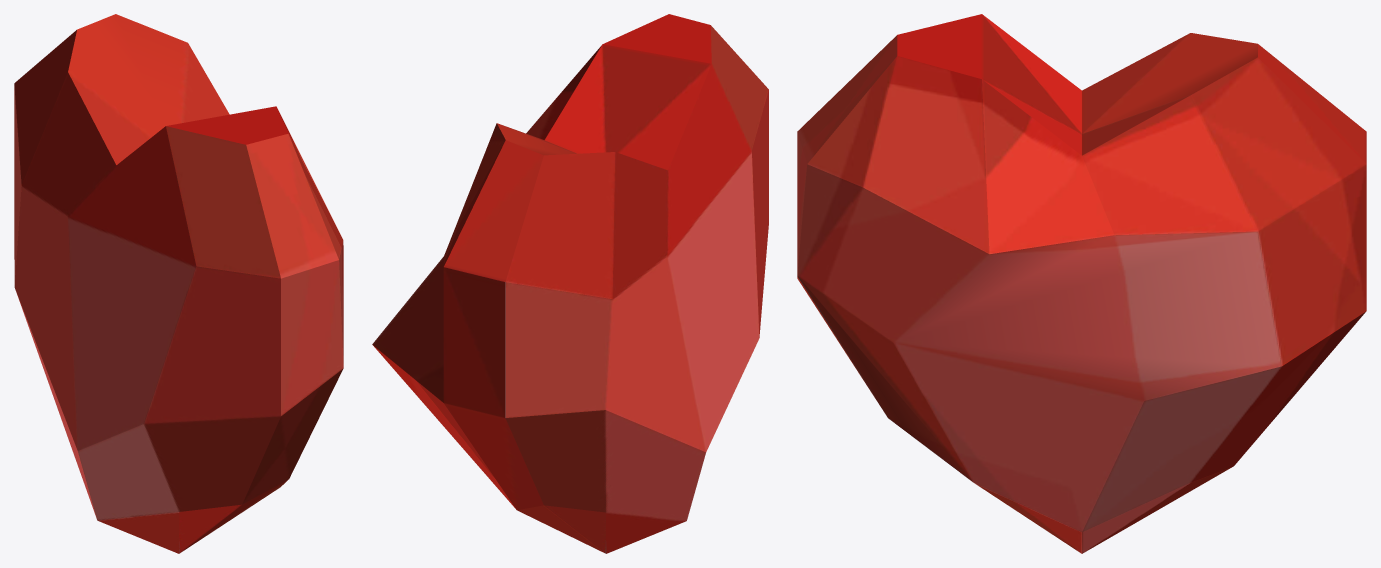
File: corazonuv.dae
3 renders of one model, left to right at view 1: azimuth 30°, elevation 25°; view 2: azimuth 150°, elevation 25°; view 3: azimuth 270°, elevation 25°, orthographic. The views are drawn at different scales.
Visible parts, largest first — view 1: Conector.1; view 2: Conector.1; view 3: Conector.1.
Part boxes in pixels (x1,y1,x2,y2): Conector.1: (14,14,343,553); Conector.1: (372,14,768,553); Conector.1: (797,14,1366,553).
Size of the model in its own units: 115 by 215 by 217.
Materials: 1 (1 with a texture image).
